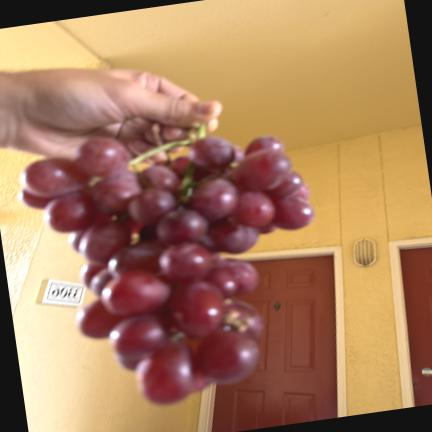grape_cluster: (20, 134, 313, 403)
